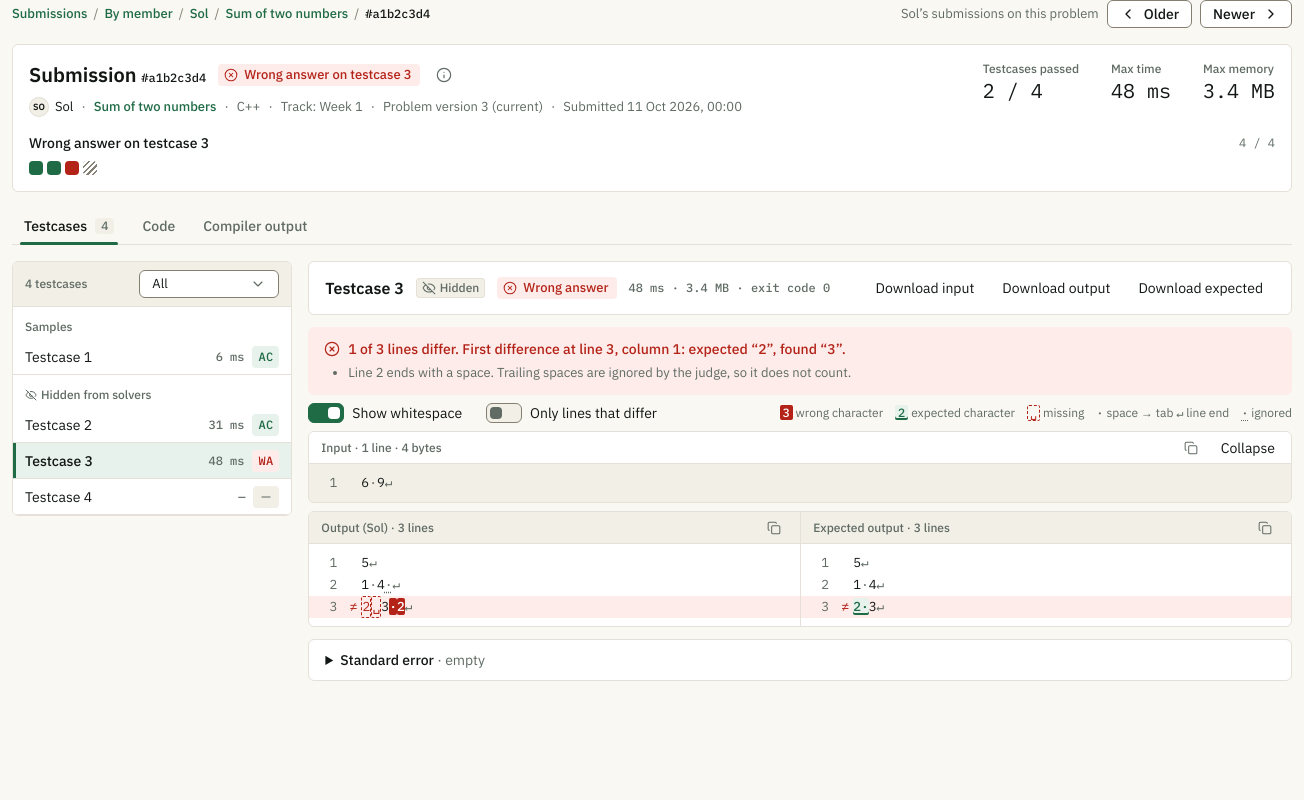
submission detail for staff › opens another testcase from the list and keeps it in the URL
The width and height of the screenshot is (1304, 800).
Expected: the heading "Testcase 3" is shown, x1=325 y1=276 x2=404 y2=300
Click the button "Testcase 2 31 ms AC". click: (54, 424)
box: x1=13 y1=407 x2=291 y2=443
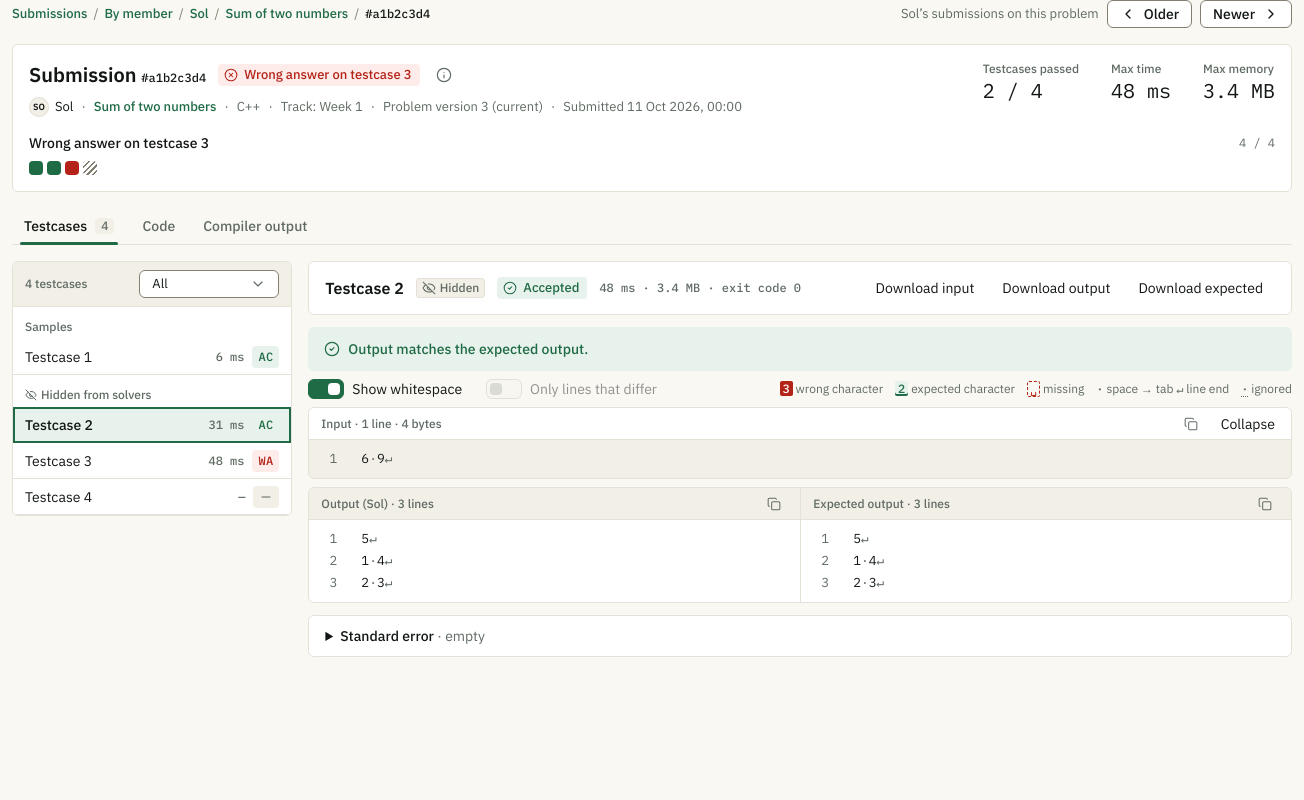
Expected: the heading "Testcase 2" is shown, x1=325 y1=276 x2=404 y2=300
Expected: the text "Output matches the expected output." is shown, x1=348 y1=339 x2=588 y2=359
